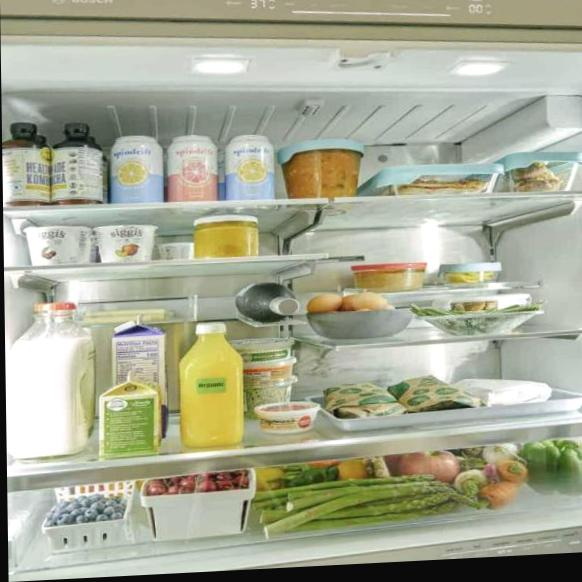apple: (401, 450, 459, 481)
asparagus: (257, 479, 462, 527)
blueberries: (57, 496, 120, 523)
eggs: (351, 291, 389, 311), (308, 294, 344, 313)
green bell pepper: (521, 438, 582, 493)
milk: (5, 300, 96, 459), (114, 315, 168, 387)
yoghurt: (25, 225, 92, 266), (93, 223, 158, 264)
